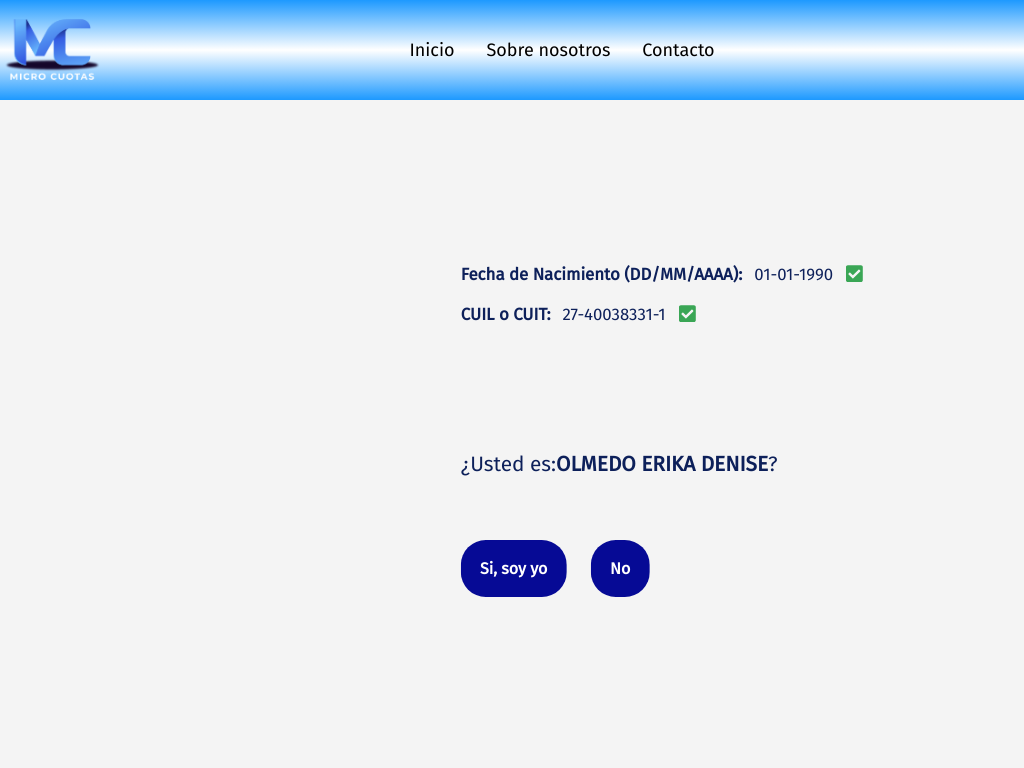
Paso4 flow for CUIL 27400383311 › rechaza por mora historica (situacion 5) y permite enviar contacto ignorando ventana de 30 dias solo en la prueba
Expected: the text "OLMEDO ERIKA DENISE" is shown, [556,452,768,477]
Click the button "Si, soy yo" at (514, 569), box [461,540,566,597]
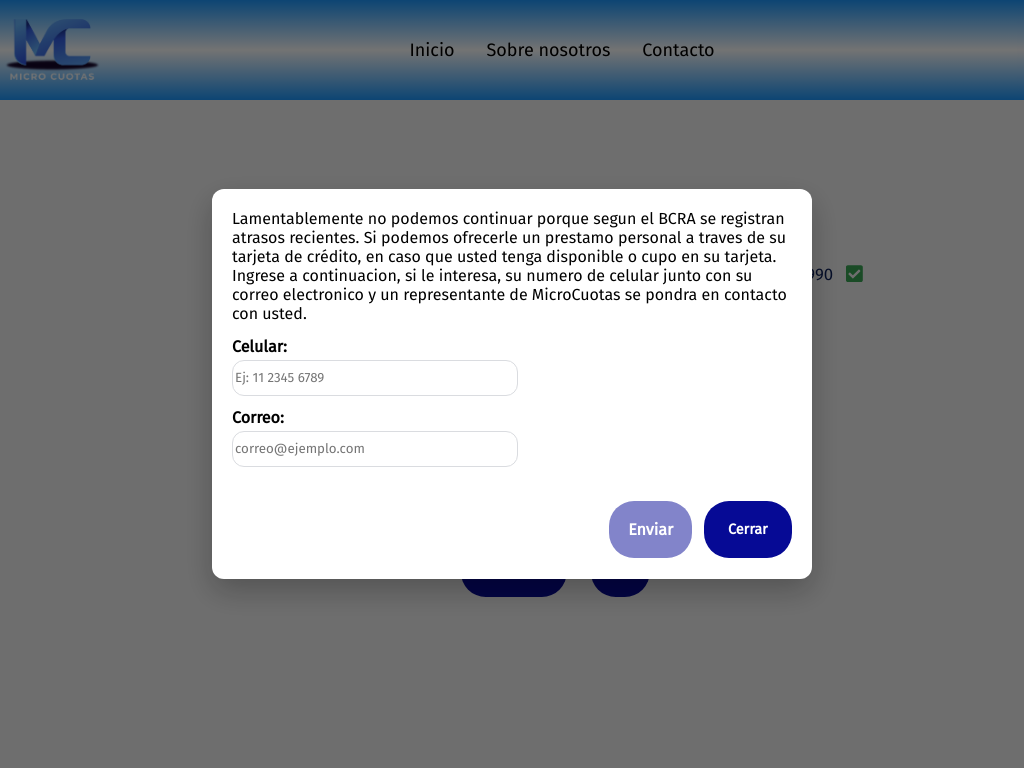
Result: the text "se registran atrasos recientes" is shown at [232,209,787,323]
Type "11 2345 6789" into the field with placeholder "Ej: 11 2345 6789" at (375, 378), box [232,360,518,396]
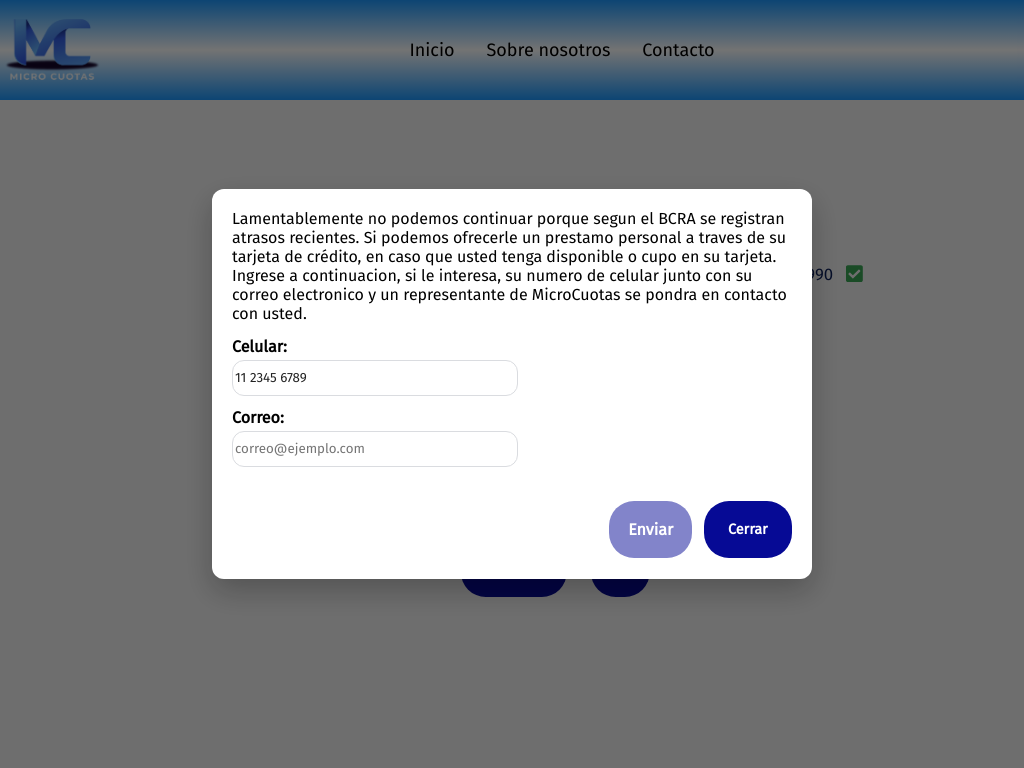
Type "qa+27400383311@microcuotas.test" into the field with placeholder "correo@ejemplo.com" at (375, 449), box [232,431,518,467]
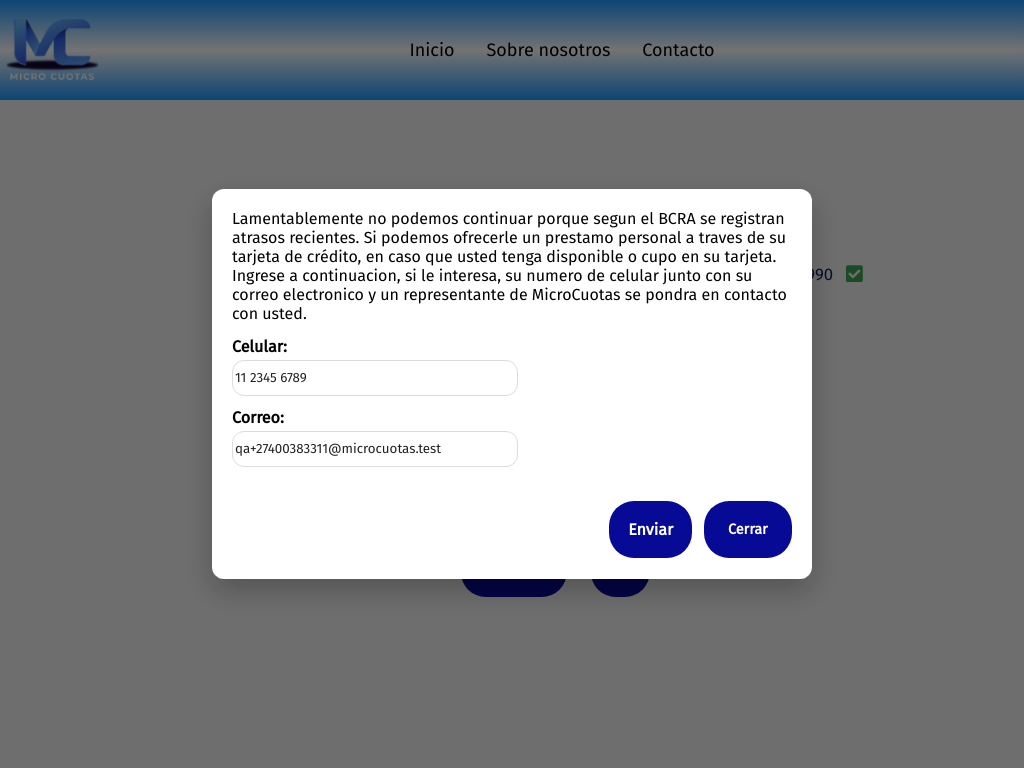
Click the button "Enviar" at (651, 530), box [609,501,692,559]
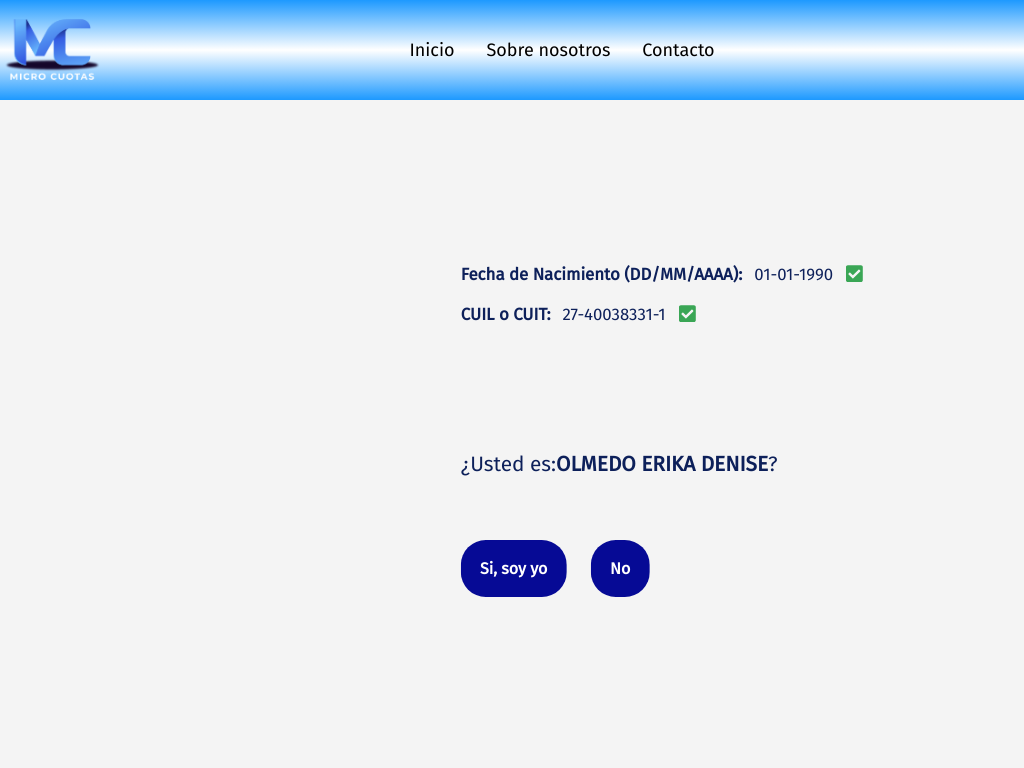
Result: the text "se registran atrasos recientes" is gone
